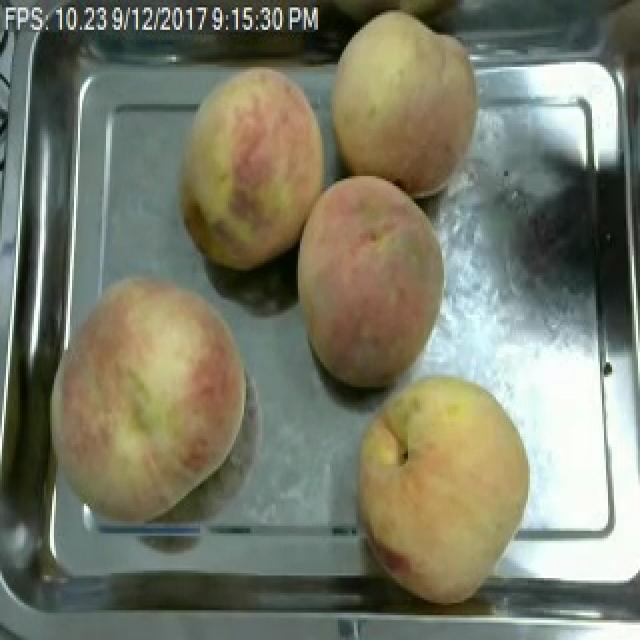Fruit: (32, 266, 258, 534), (342, 364, 542, 612), (168, 59, 348, 278), (286, 169, 454, 397), (322, 2, 490, 206)
